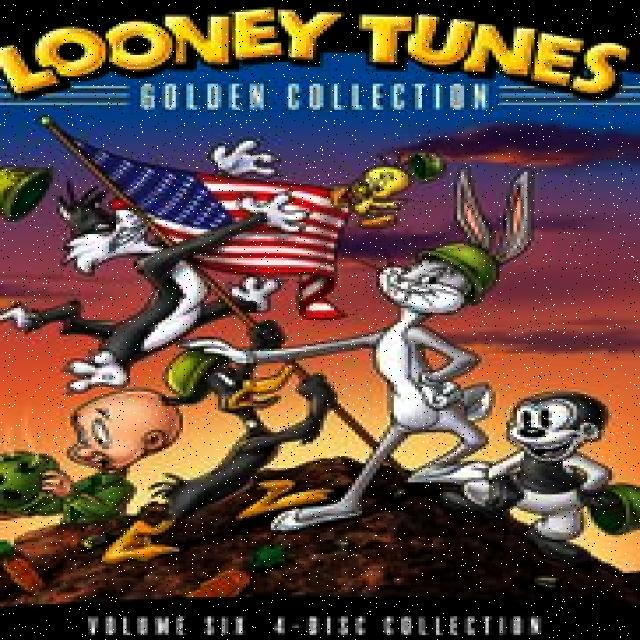movie-judul: (3, 9, 637, 111)
picture: (0, 114, 640, 601)
